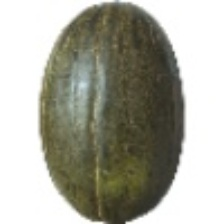honeydew: (16, 43, 210, 188)
